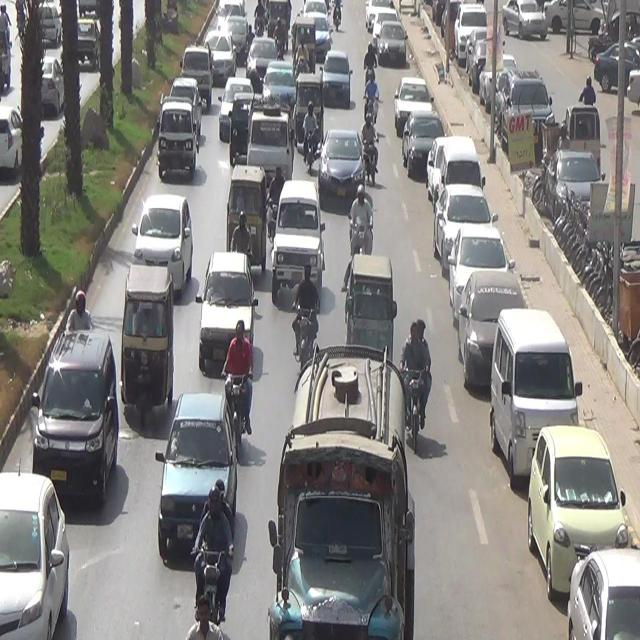car: (23, 333, 118, 522), (0, 449, 73, 640), (157, 389, 238, 548), (193, 250, 254, 368), (130, 201, 196, 305), (269, 180, 323, 293), (154, 92, 197, 187), (325, 137, 363, 201), (201, 26, 236, 90)
motorbike: (190, 477, 241, 640), (219, 314, 261, 453), (401, 304, 438, 456), (285, 258, 322, 361), (348, 175, 376, 274), (63, 285, 96, 352), (358, 47, 387, 121), (360, 108, 381, 188)
truck: (258, 328, 432, 640), (249, 97, 290, 191), (179, 42, 216, 108)
